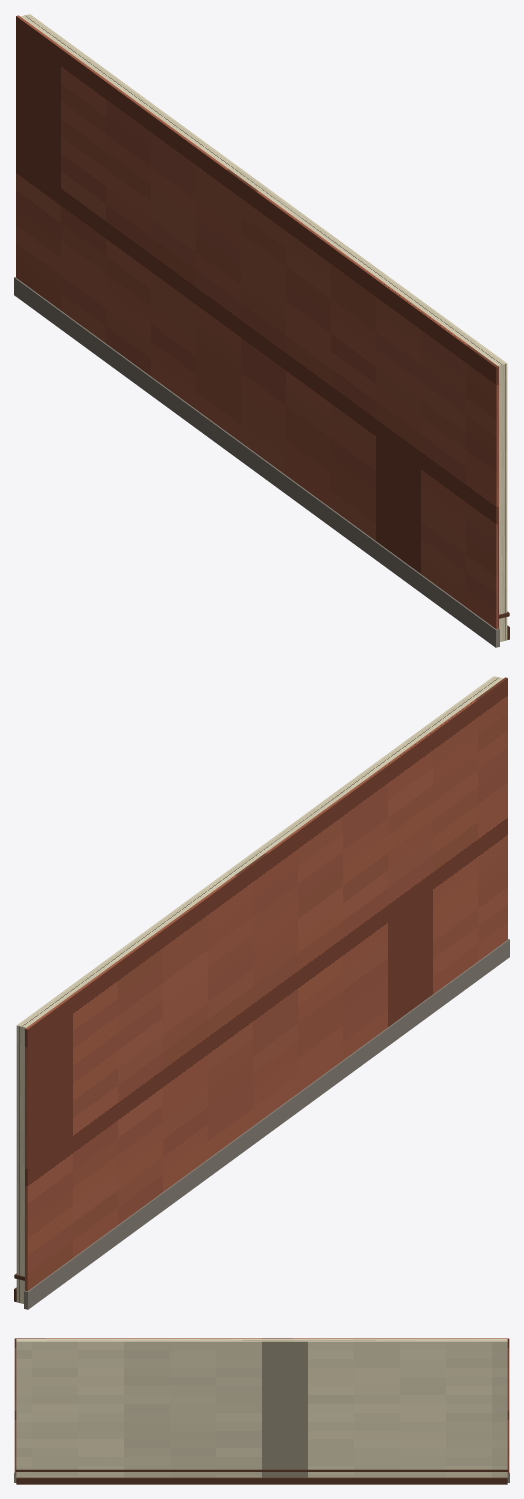
File: rear_l.glb
3 renders of one model, top to bottom at view 1: azimuth 30°, elevation 25°; view 2: azimuth 150°, elevation 25°; view 3: azimuth 270°, elevation 25°, orthographic. The views are drawn at different scales.
Visible parts, largest first — view 1: Box3, Box4, Box1; view 2: Box3, Box4, Box1; view 3: Box1, Box2, Box6, Box3.
Part boxes in pixels (bbox=[...]): Box3: bbox=[16, 15, 498, 629]; Box4: bbox=[14, 277, 499, 647]; Box1: bbox=[20, 14, 507, 641]; Box3: bbox=[25, 677, 507, 1291]; Box4: bbox=[24, 939, 509, 1309]; Box1: bbox=[16, 676, 503, 1303]; Box1: bbox=[16, 1339, 507, 1477]; Box2: bbox=[16, 1477, 507, 1484]; Box6: bbox=[15, 1467, 508, 1471]; Box3: bbox=[14, 1338, 509, 1473].
Bounding box in the file's own units: 0.25 × 4.04 × 12.62.
4 materials, 2 textured.
